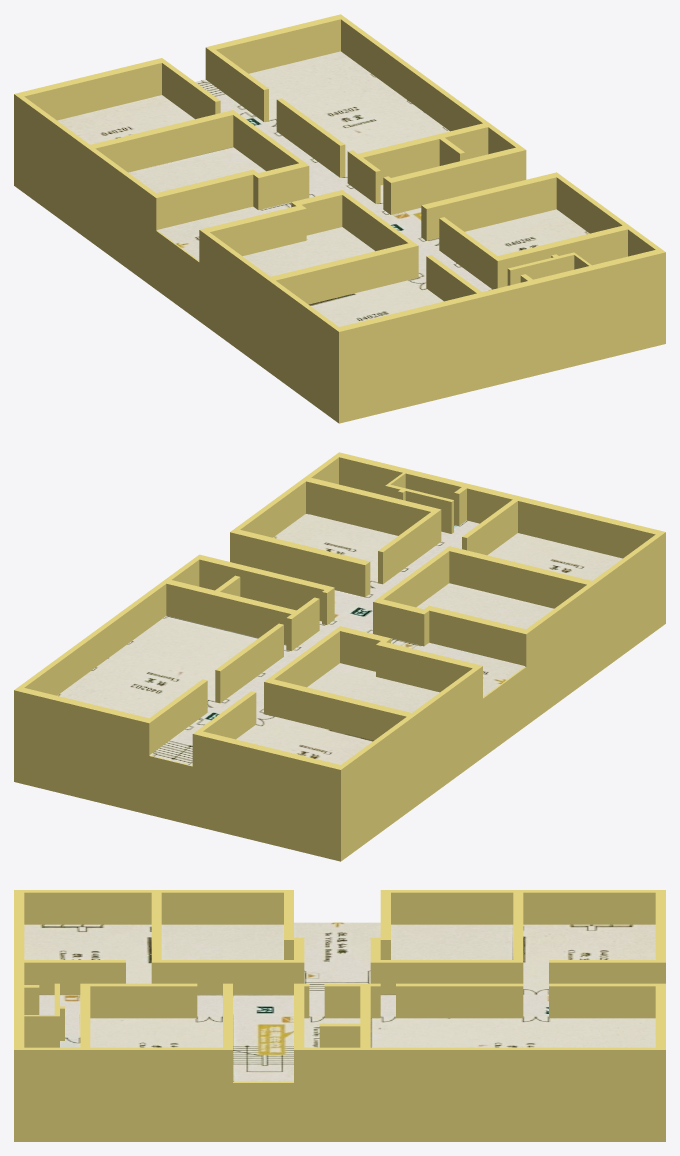
The model's file is Syue-Sih-2F-cube.glb.
3 views of the same model, one above another, from view 1: azimuth 30°, elevation 25°; view 2: azimuth 150°, elevation 25°; view 3: azimuth 270°, elevation 25° (orthographic).
Parts seen in each view (by area): view 1: Cube, Plane; view 2: Cube, Plane; view 3: Cube, Plane.
Part boxes in pixels (x1=…): Cube: x1=14, y1=14, x2=665, y2=423; Plane: x1=57, y1=51, x2=589, y2=326; Cube: x1=14, y1=452, x2=665, y2=861; Plane: x1=57, y1=513, x2=622, y2=765; Cube: x1=14, y1=890, x2=665, y2=1141; Plane: x1=24, y1=922, x2=655, y2=1081.
Size of the model in its own units: 10.45 by 2.8 by 18.
Materials: 2 (1 with a texture image).
